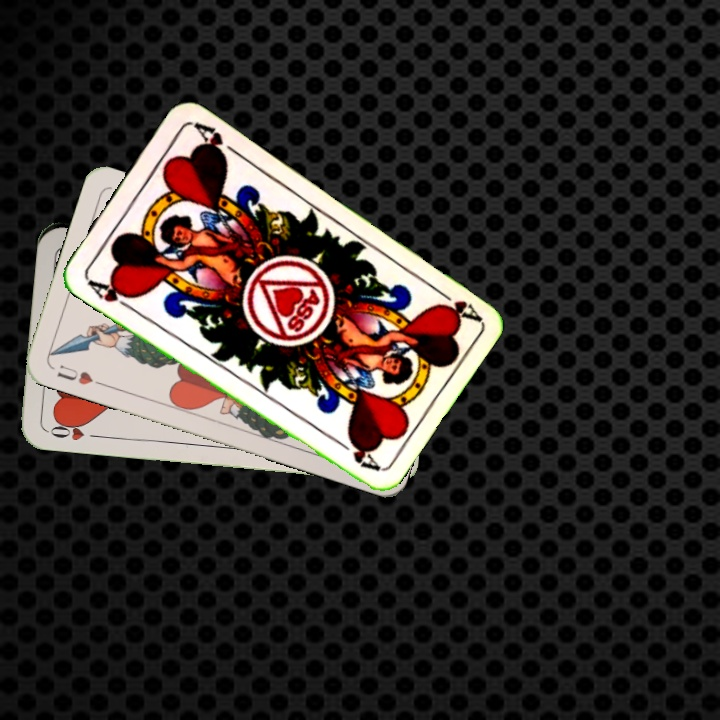HA: (429, 282, 482, 324), (83, 274, 137, 313)
HO: (44, 415, 103, 444)
HU: (53, 360, 106, 389)
